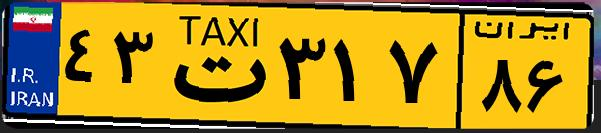1: (330, 28, 385, 110)
3: (270, 28, 330, 110), (110, 28, 158, 98)
4: (57, 26, 110, 100)
6: (525, 38, 570, 115)
7: (385, 28, 445, 110)
8: (475, 38, 525, 113)
ت: (158, 12, 270, 120)
